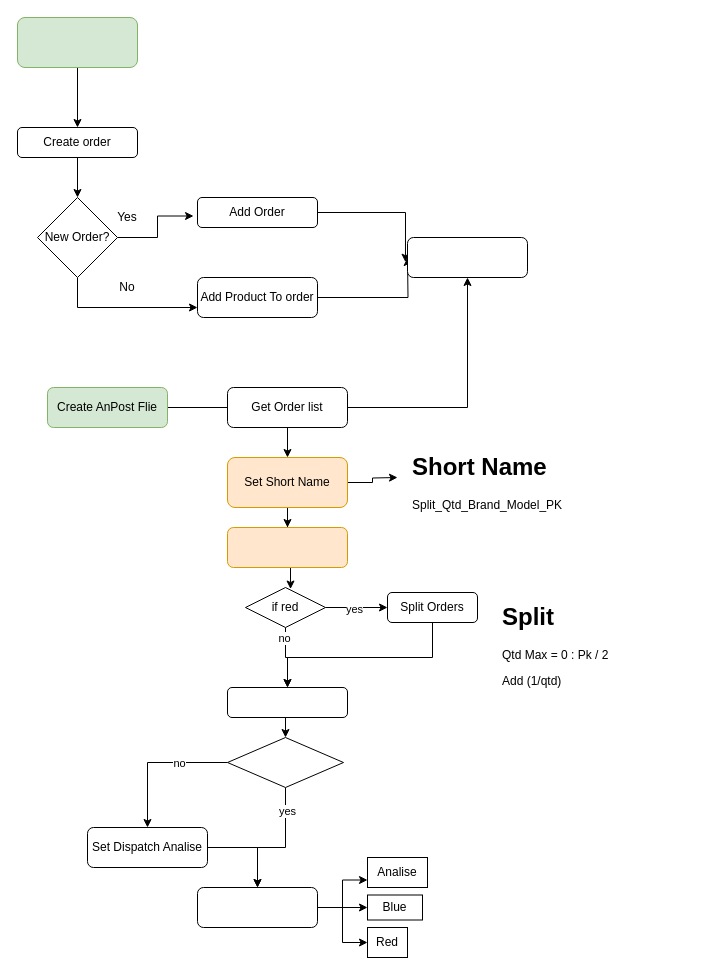
Image size: 705x975. Some labels were removed from this diagram. Each missing label, with the box of its shape:
Import Amazon File: (16, 16, 138, 68)
List of orders Imported: (406, 236, 528, 278)
Set Custom Tariff: (226, 686, 348, 718)
Set Dispatch Default (Red Blue): (226, 526, 348, 568)
single item?: (226, 736, 344, 788)
Write File: (196, 886, 318, 928)
